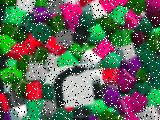Right: (51, 63, 95, 109)
